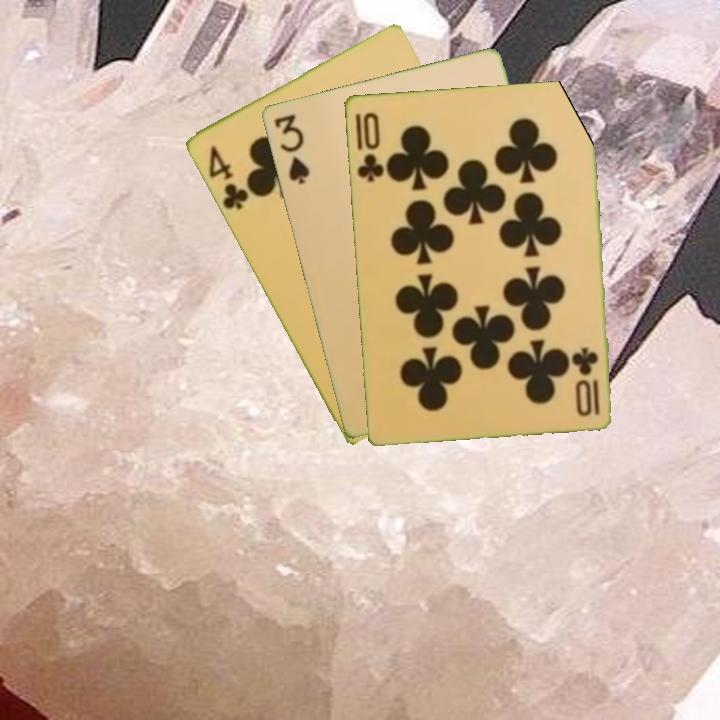10c: (353, 108, 387, 185), (571, 343, 602, 419)
3s: (270, 110, 312, 187)
4c: (204, 142, 252, 212)
